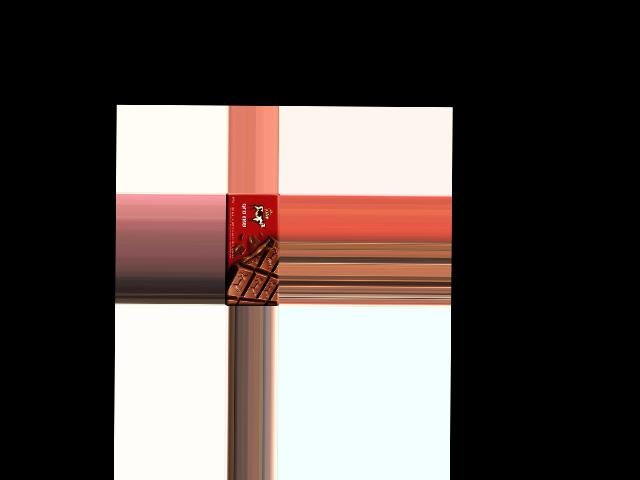chocolate: (225, 192, 279, 304)
